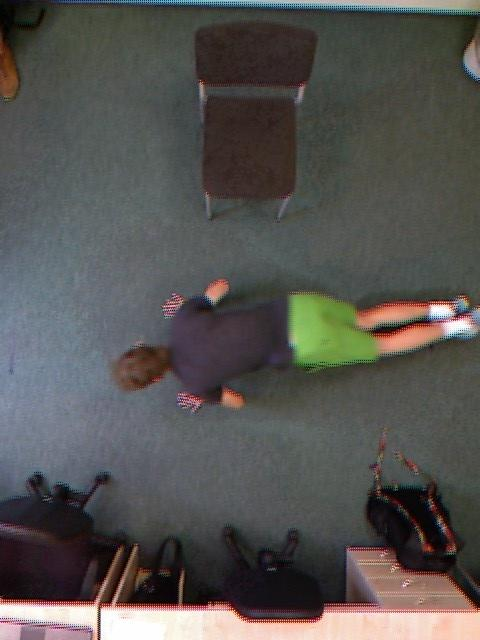fall: (225, 94, 347, 599)
